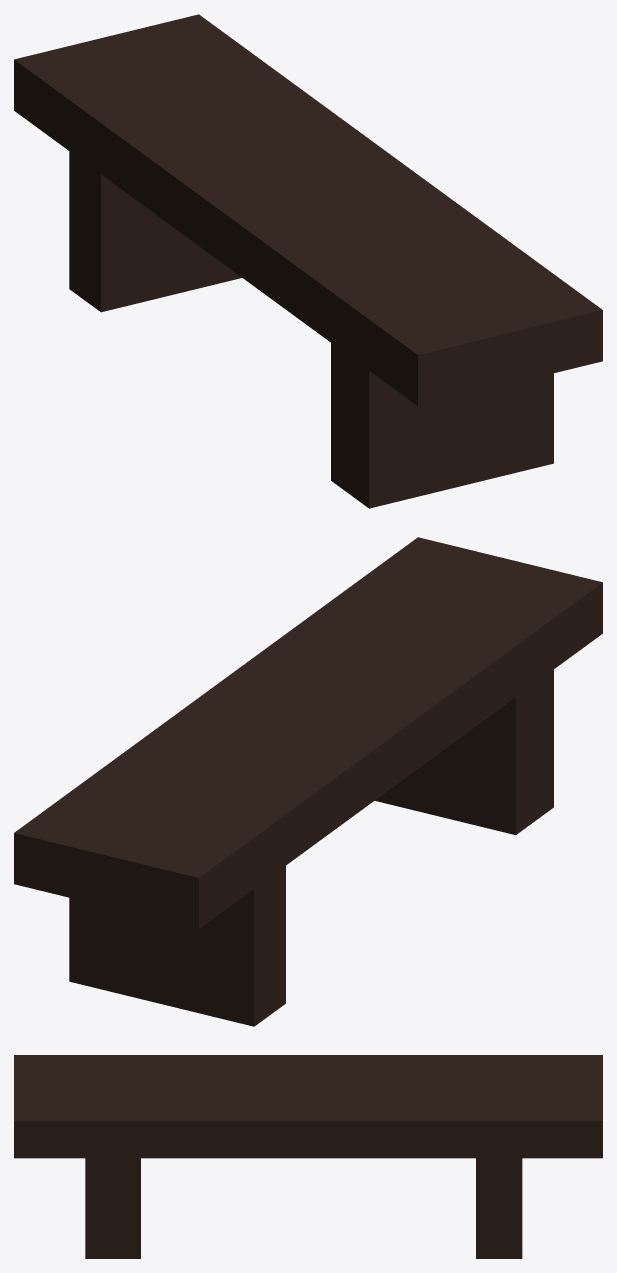
Rendered from bench.obj.
The picture shows the model from 3 angles, top to bottom: view 1: azimuth 30°, elevation 25°; view 2: azimuth 150°, elevation 25°; view 3: azimuth 270°, elevation 25°; orthographic projection. The views are drawn at different scales.
Parts seen in each view (by area): view 1: Plane; view 2: Plane; view 3: Plane.
Part boxes in pixels (x1=…): Plane: x1=14, y1=14, x2=602, y2=508; Plane: x1=14, y1=537, x2=602, y2=1026; Plane: x1=14, y1=1055, x2=602, y2=1258.
Size of the model in its own units: 1.23 by 1.2 by 4.64.
